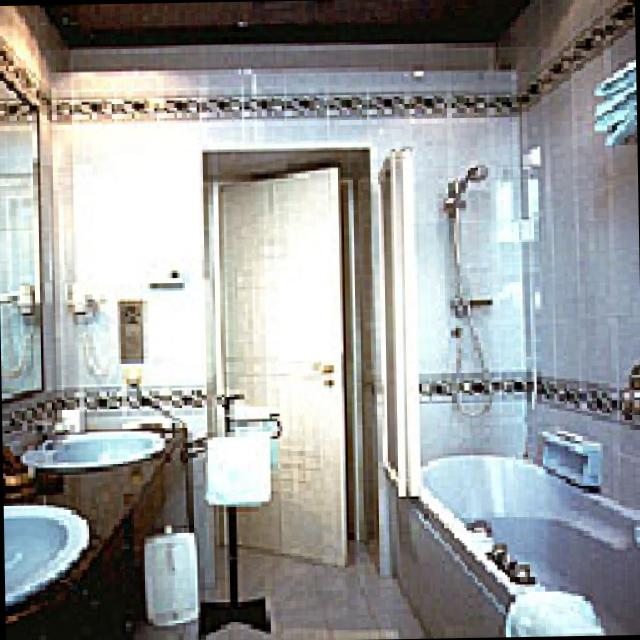bath occluded: (486, 539, 534, 579)
bathtub: (390, 447, 640, 636)
ceiling beam: (42, 0, 541, 52)
counter bottom: (8, 424, 189, 640)
door bars: (220, 162, 349, 557)
door handle: (209, 142, 374, 569)
mirror crop: (0, 70, 46, 398)
rack: (542, 421, 603, 483)
shower door: (380, 146, 423, 494)
shower handle: (441, 160, 499, 417)
sink basin: (7, 500, 91, 598), (37, 430, 165, 464)
sink occluded: (7, 425, 52, 453)
sinks: (8, 422, 196, 638)
towel basket: (208, 428, 276, 503), (508, 586, 610, 634)
towel ring: (203, 392, 284, 628)
trash compactor: (144, 525, 200, 623)
